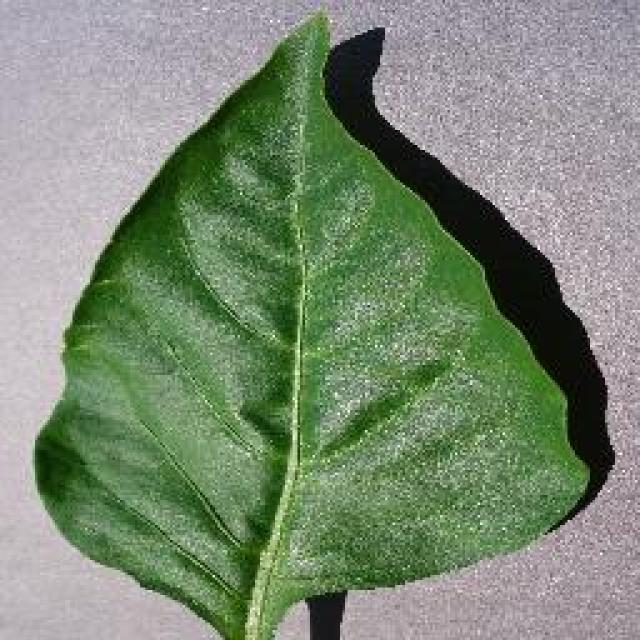Leaf: (94, 66, 572, 544)
